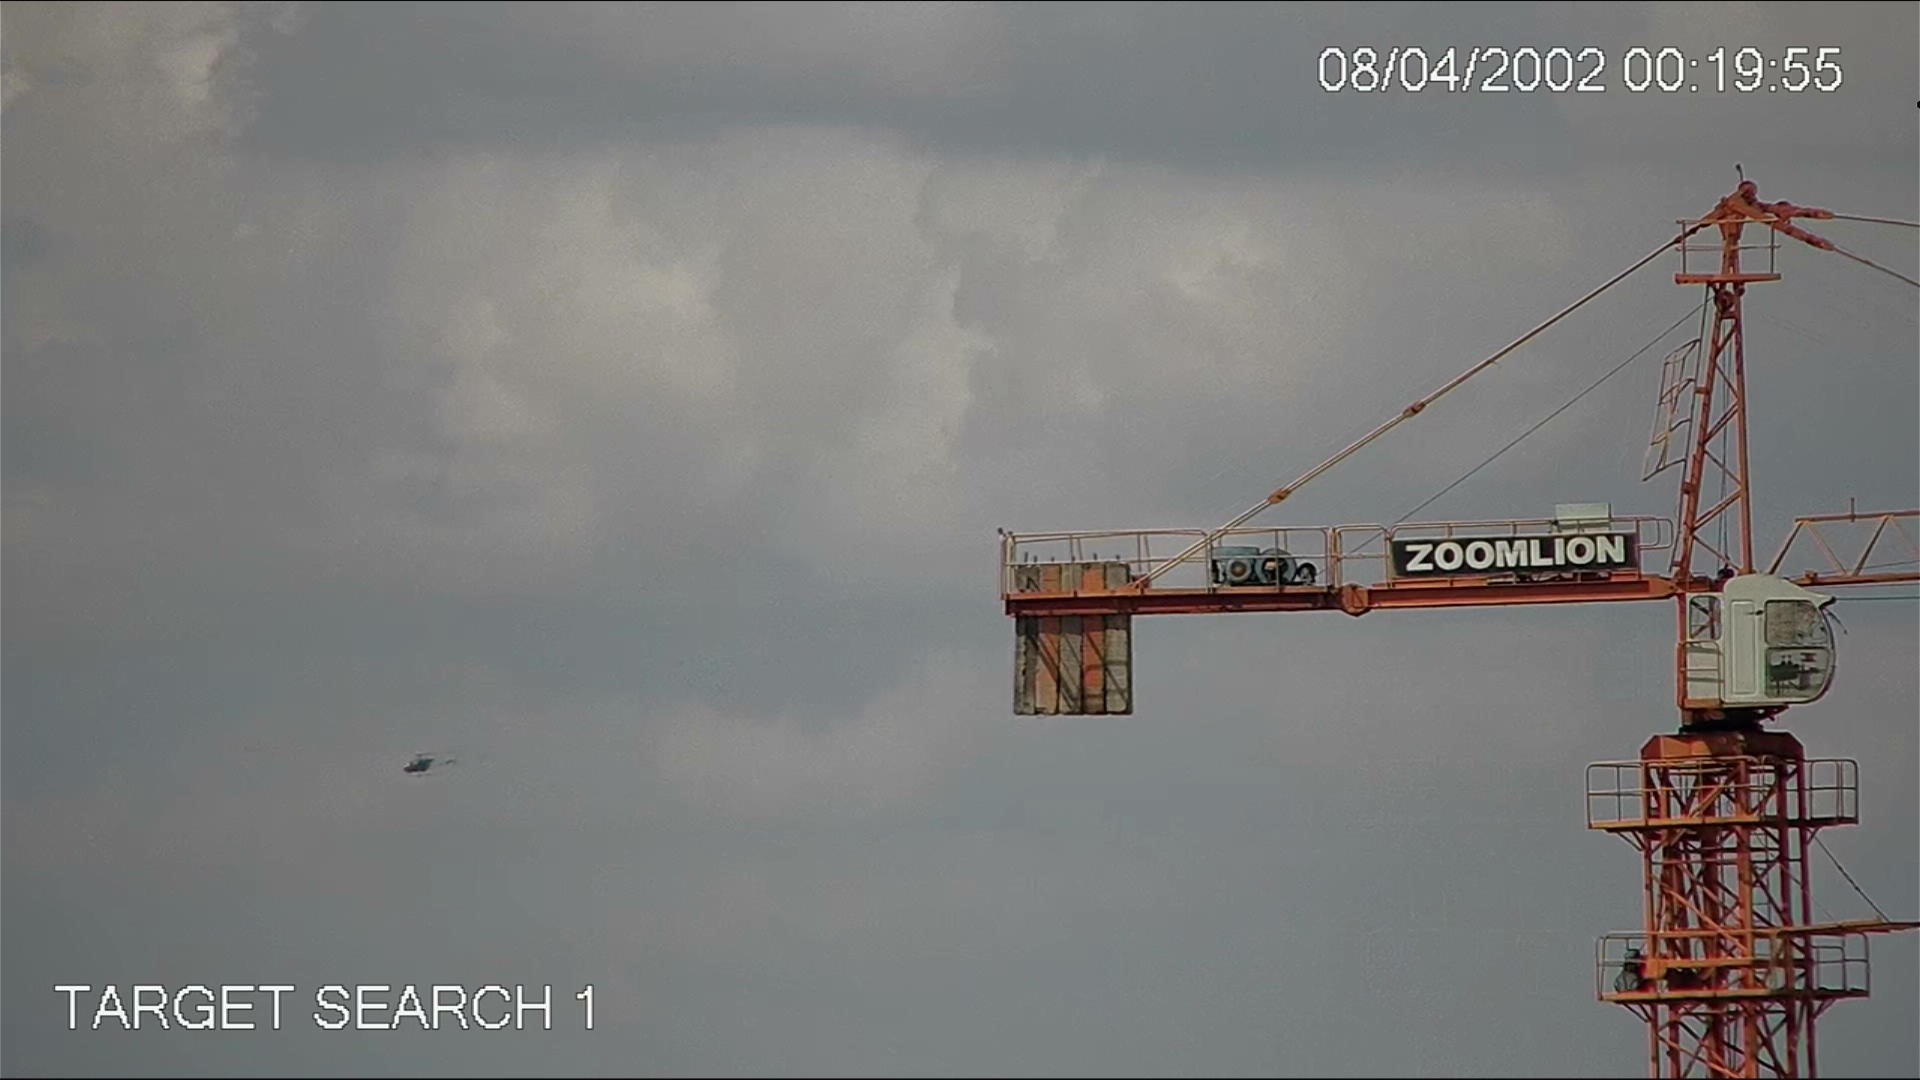SU_30: (400, 748, 460, 781)
